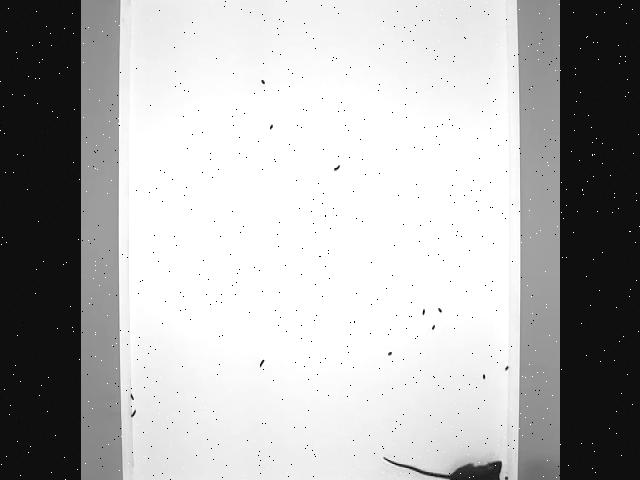Tikus: (379, 454, 505, 480)
